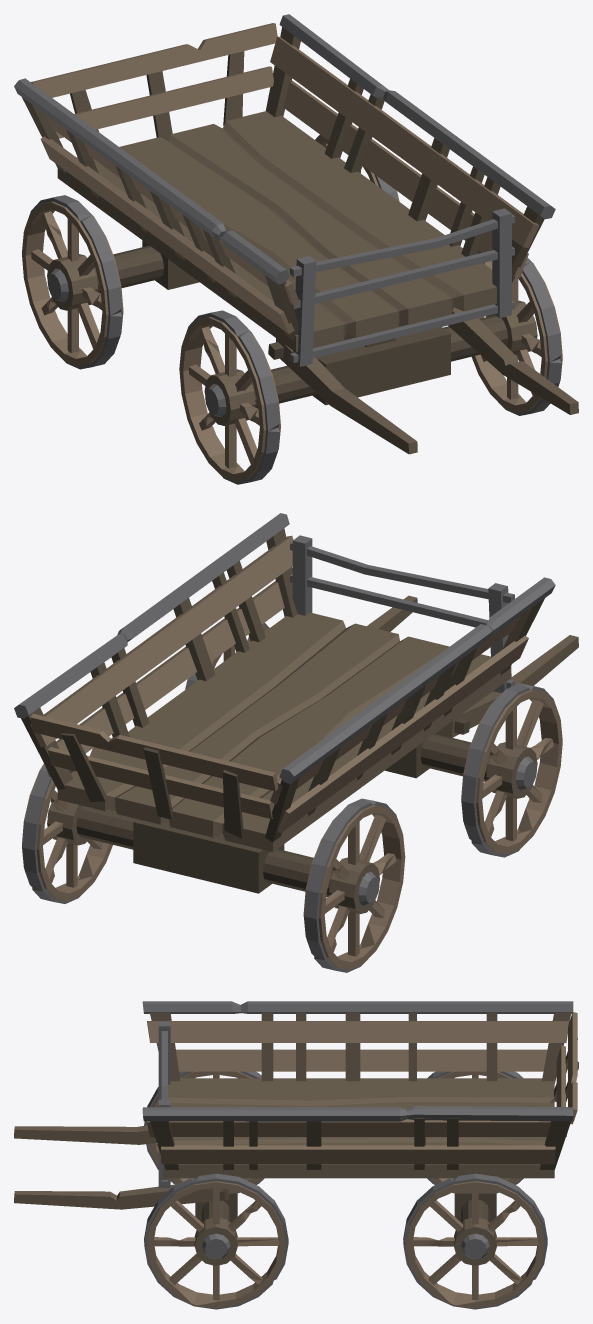
Rendered from SM_Prop_Cart_01.fbx.
The picture shows the model from 3 angles, top to bottom: view 1: azimuth 30°, elevation 25°; view 2: azimuth 150°, elevation 25°; view 3: azimuth 270°, elevation 25°; orthographic projection. The views are drawn at different scales.
Visible parts, largest first — view 1: SM_Prop_Cart_01; view 2: SM_Prop_Cart_01; view 3: SM_Prop_Cart_01.
Part boxes in pixels (x1,y1,x2,y2): SM_Prop_Cart_01: (14, 14, 578, 484); SM_Prop_Cart_01: (14, 513, 578, 972); SM_Prop_Cart_01: (14, 1001, 578, 1309).
Size of the model in its own units: 2.13 by 1.51 by 3.97.
